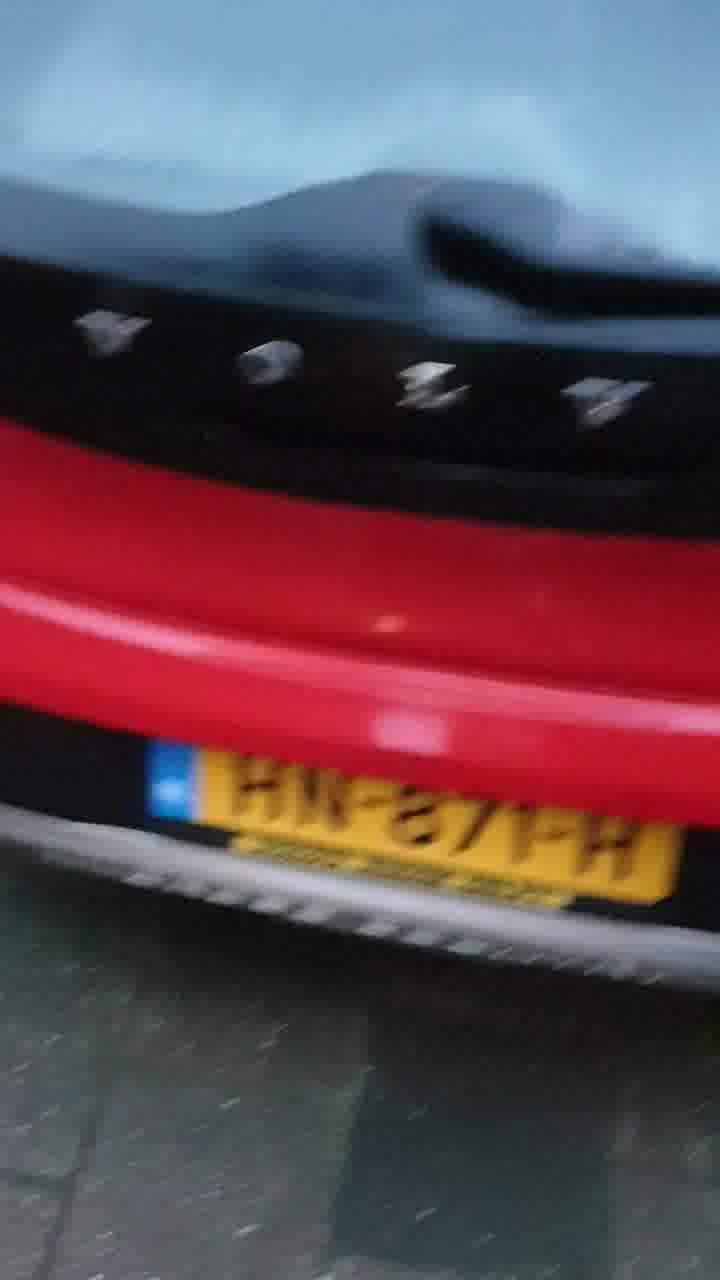plate: (118, 727, 697, 911)
